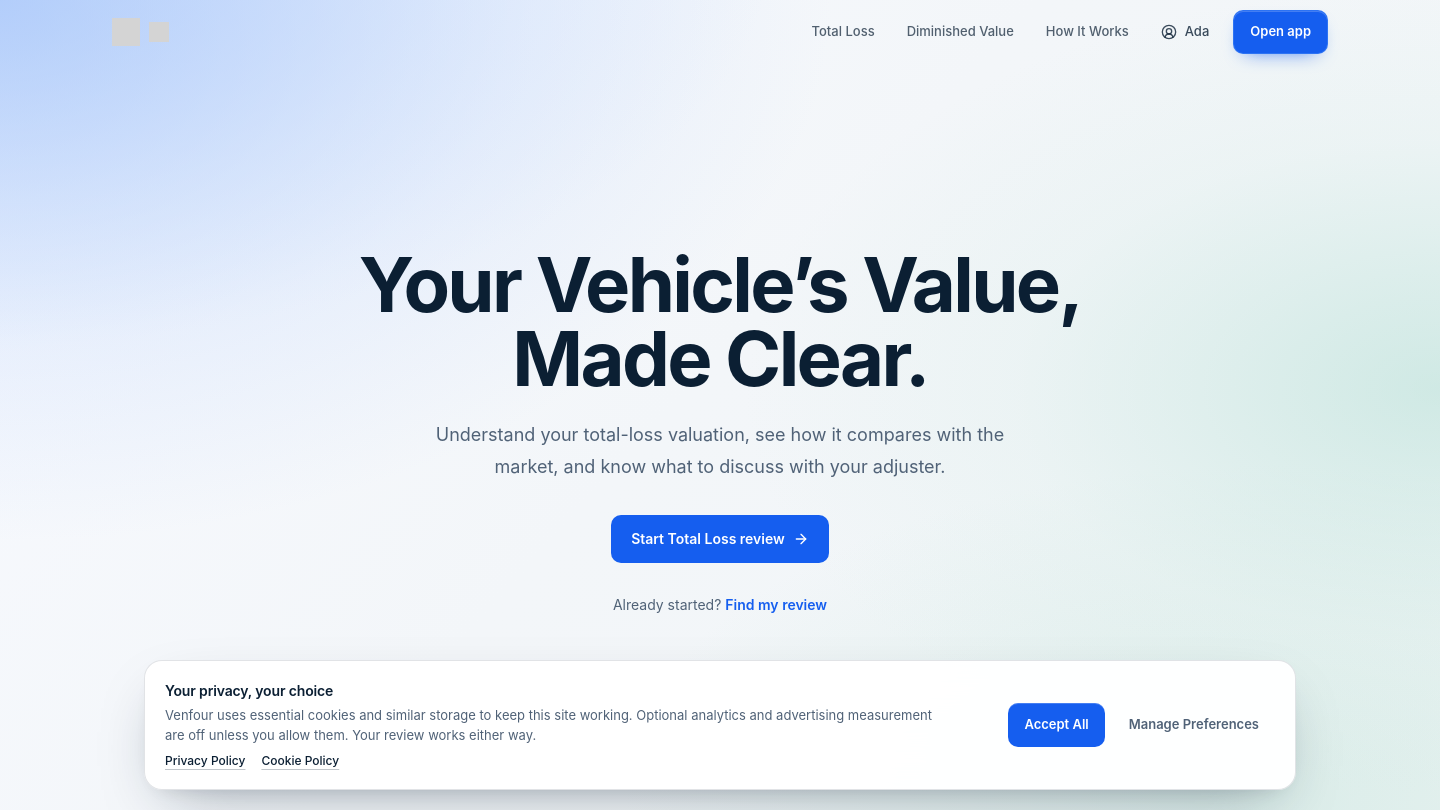
Venfour application › shows signed-in identity, signs out, and clears customer case data
Click the button with aria-label "Account for ada@example.com". click: {"x": 1185, "y": 32}
box: [1149,10,1221,54]
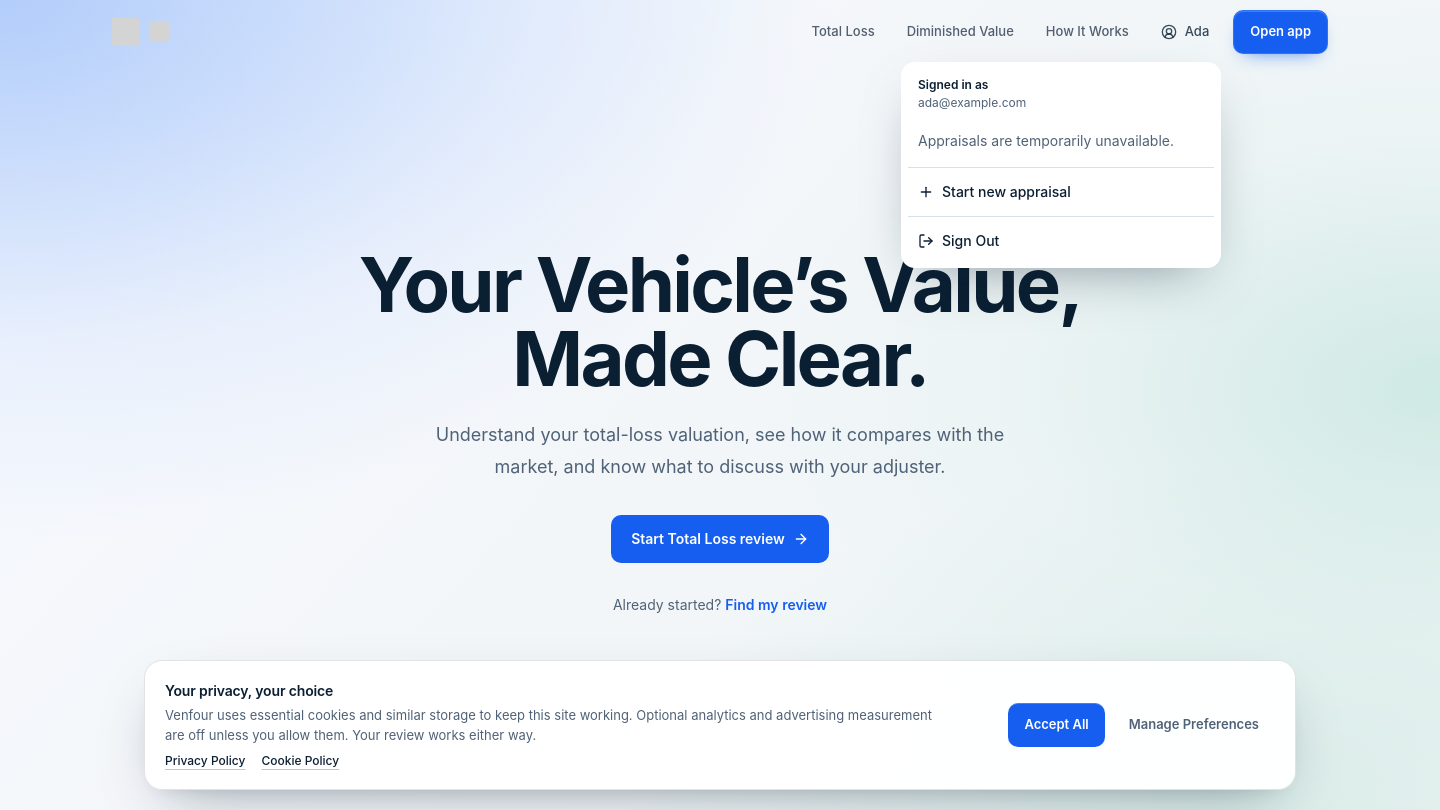
Expected: the text "ada@example.com" is shown, [918,95,1026,110]
Click the menu item "Sign Out". click: {"x": 971, "y": 240}
box: [908,221,1214,261]
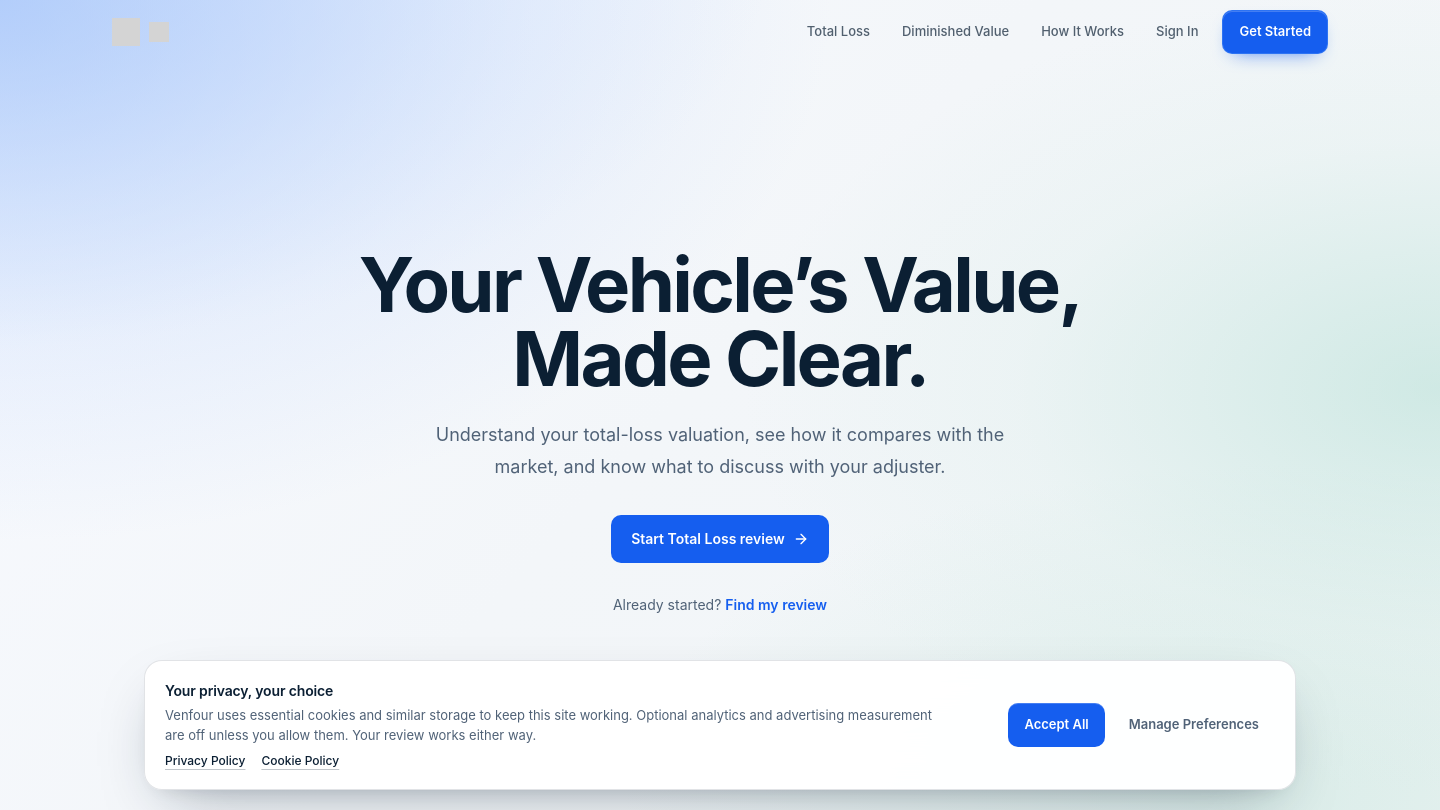
Expected: the button "Sign In" is shown, [1144,10,1210,54]
